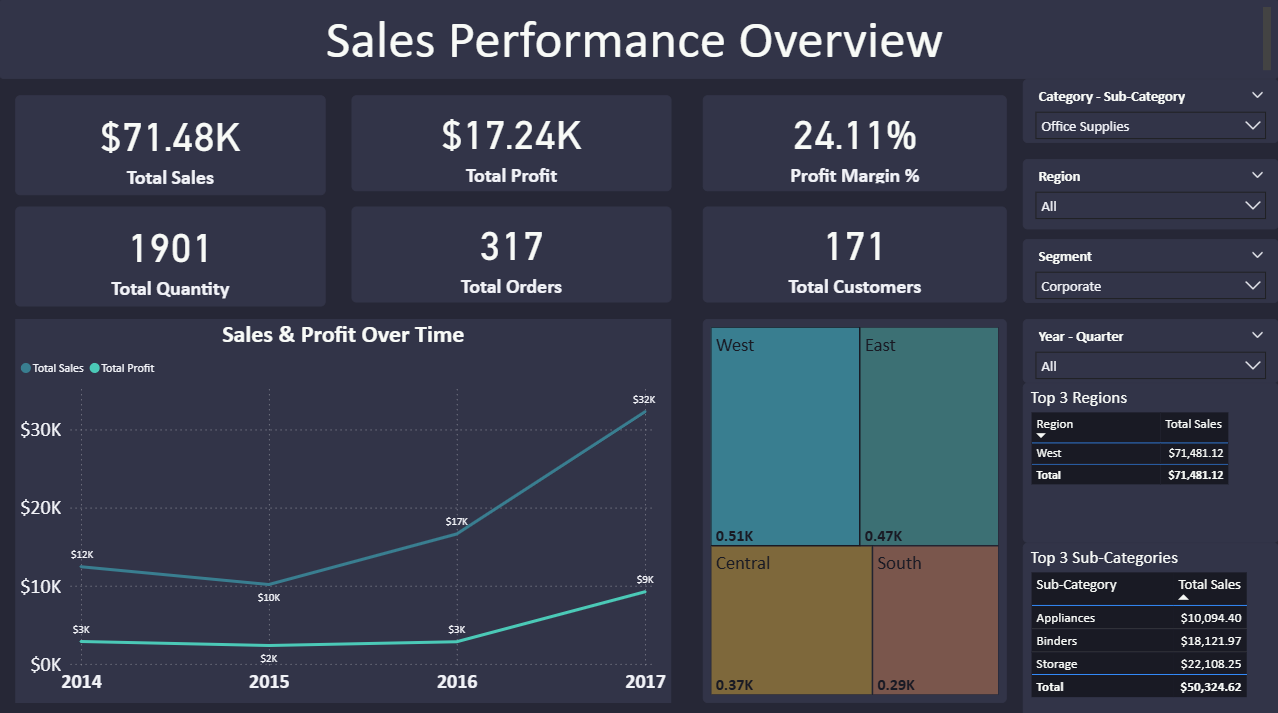

The dashboard page shown, as its layout file describes it:
{"tool":"powerbi","page":{"name":"Sales Performance Overview","canvas":[1280,720],"ordinal":0},"visuals":[{"type":"tableEx","title":"Top 3 Regions","fields":{"Values":["Orders.Region","Orders.Total Sales"]},"box":[1024,384,256,160],"z":0},{"type":"tableEx","title":"Top 3 Sub-Categories","fields":{"Values":["Orders.Sub-Category","Orders.Total Sales"]},"box":[1024,544,256,176],"z":1000},{"type":"slicer","fields":{"Values":["Orders.Region"]},"box":[1024,160,256,70],"z":2000},{"type":"textbox","box":[0,0,1280,80],"z":3000},{"type":"slicer","fields":{"Values":["Orders.Segment"]},"box":[1024,240,256,64],"z":4000},{"type":"lineChart","title":"Sales & Profit Over Time","fields":{"Y":["Orders.Total Sales","Orders.Total Profit"],"Category":["Orders.Order Date.Variation.Date Hierarchy.Year","Orders.Order Date.Variation.Date Hierarchy.Quarter"]},"box":[16,320,656,384],"z":5000},{"type":"slicer","fields":{"Values":["Orders.Category Hierarchy.Category","Orders.Category Hierarchy.Sub-Category"]},"box":[1024,80,256,64],"z":6000},{"type":"card","title":"Toatal Customers","fields":{"Values":["Orders.Total Profit"]},"box":[352,96,320,96],"z":7000},{"type":"card","title":"Toatal Customers","fields":{"Values":["Orders.Total Orders"]},"box":[16,208,310,100],"z":8000},{"type":"card","title":"Toatal Customers","fields":{"Values":["Orders.Active Returning Customers"]},"box":[704,208,304,96],"z":9000},{"type":"card","title":"Toatal Customers","fields":{"Values":["Orders.Total Sales"]},"box":[16,96,310,100],"z":10000},{"type":"card","title":"Toatal Customers","fields":{"Values":["Orders.Profit Margin %"]},"box":[704,96,304,96],"z":11000},{"type":"card","title":"Toatal Customers","fields":{"Values":["Orders.Total Customers"]},"box":[352,208,320,96],"z":12000},{"type":"treemap","fields":{"Group":["Orders.Region Hierarchy.Region"],"Values":["CountNonNull(Orders.Region Hierarchy.Region)"]},"box":[704,320,304,384],"z":13000},{"type":"slicer","fields":{"Values":["Orders.Order Date.Variation.Date Hierarchy.Year","Orders.Order Date.Variation.Date Hierarchy.Quarter"]},"box":[1024,320,256,64],"z":14000}]}

Visuals, with their boxes in screenshot pixels (x1, y1, x2, y2), scaled from the page's 1280x720 canvas onto the 1278x713 screenshot:
"Top 3 Regions" tableEx: crop(1022, 380, 1277, 539)
"Top 3 Sub-Categories" tableEx: crop(1022, 539, 1277, 712)
slicer - Orders.Region: crop(1022, 158, 1277, 228)
textbox: crop(0, 0, 1277, 79)
slicer - Orders.Segment: crop(1022, 238, 1277, 301)
"Sales & Profit Over Time" lineChart: crop(16, 317, 671, 697)
slicer - Orders.Category Hierarchy.Category x Orders.Category Hierarchy.Sub-Category: crop(1022, 79, 1277, 143)
"Toatal Customers" card: crop(351, 95, 671, 190)
"Toatal Customers" card: crop(16, 206, 325, 305)
"Toatal Customers" card: crop(703, 206, 1006, 301)
"Toatal Customers" card: crop(16, 95, 325, 194)
"Toatal Customers" card: crop(703, 95, 1006, 190)
"Toatal Customers" card: crop(351, 206, 671, 301)
treemap - Orders.Region Hierarchy.Region x CountNonNull(Orders.Region Hierarchy.Region): crop(703, 317, 1006, 697)
slicer - Orders.Order Date.Variation.Date Hierarchy.Year x Orders.Order Date.Variation.Date Hierarchy.Quarter: crop(1022, 317, 1277, 380)
